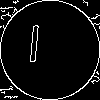I: (25, 25, 43, 72)
